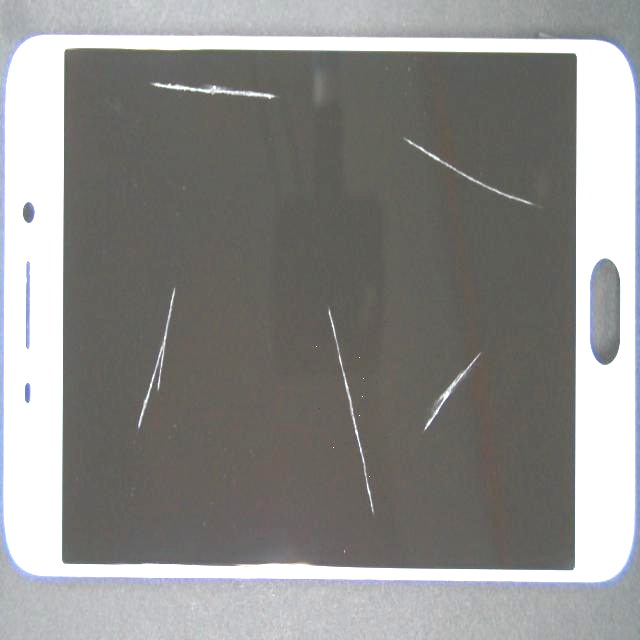scratch: (131, 12, 502, 544)
